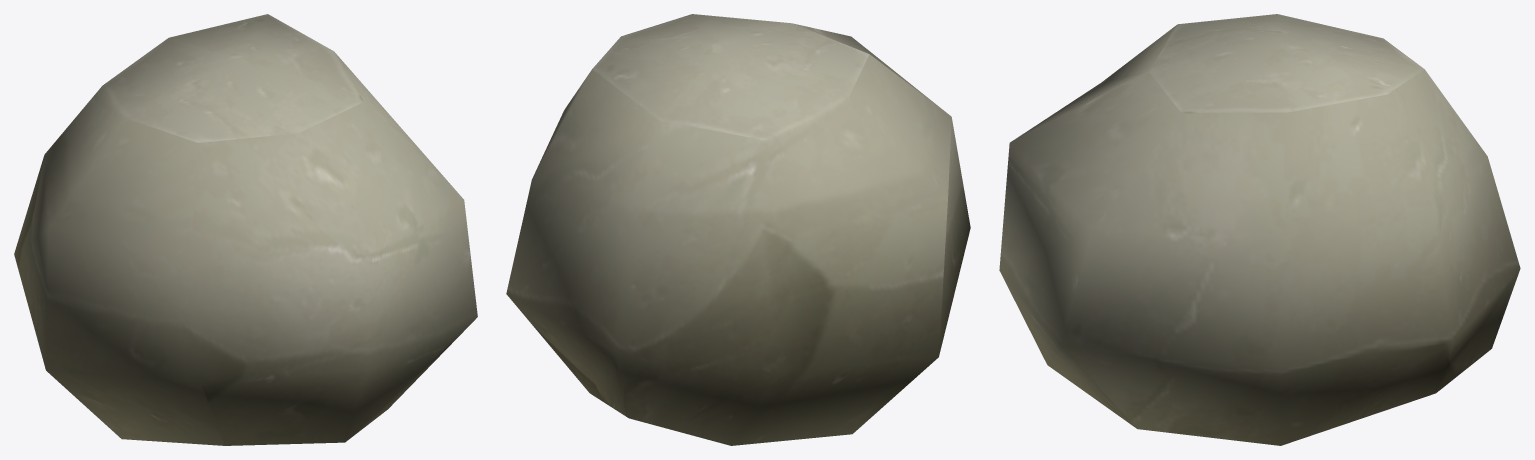
File: ston_002.fbx
The picture shows the model from 3 angles, left to right: view 1: azimuth 30°, elevation 25°; view 2: azimuth 150°, elevation 25°; view 3: azimuth 270°, elevation 25°; orthographic projection. The views are drawn at different scales.
Parts seen in each view (by area): view 1: pSphere2; view 2: pSphere2; view 3: pSphere2.
Part boxes in pixels (x1,y1,x2,y2): pSphere2: [14, 14, 477, 445]; pSphere2: [506, 14, 970, 445]; pSphere2: [999, 14, 1520, 445].
Bounding box in the file's own units: 40.08 × 44.64 × 35.26.
